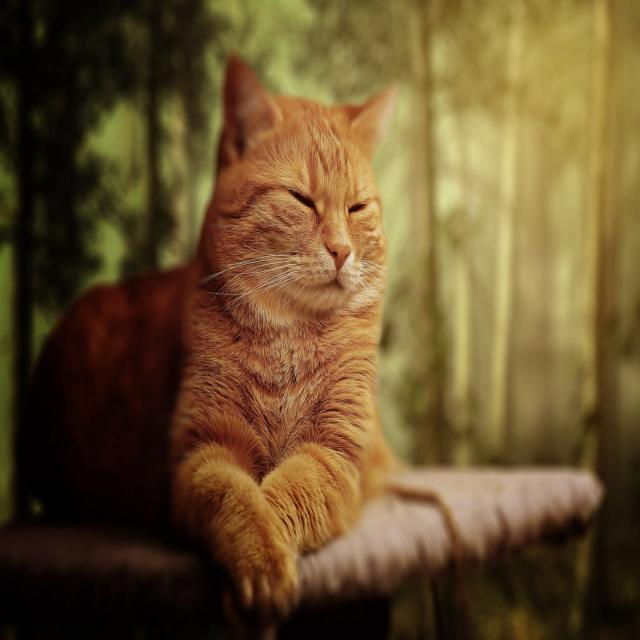cat: (16, 44, 416, 612)
